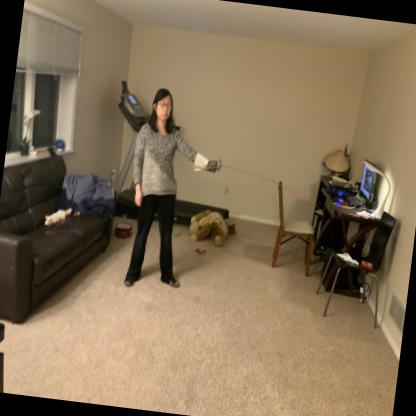foil-tip: (289, 187, 309, 206)
hand-and-foil: (187, 150, 316, 212)
